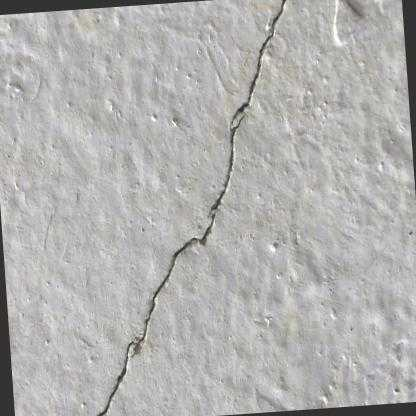crack: (94, 0, 286, 416)
